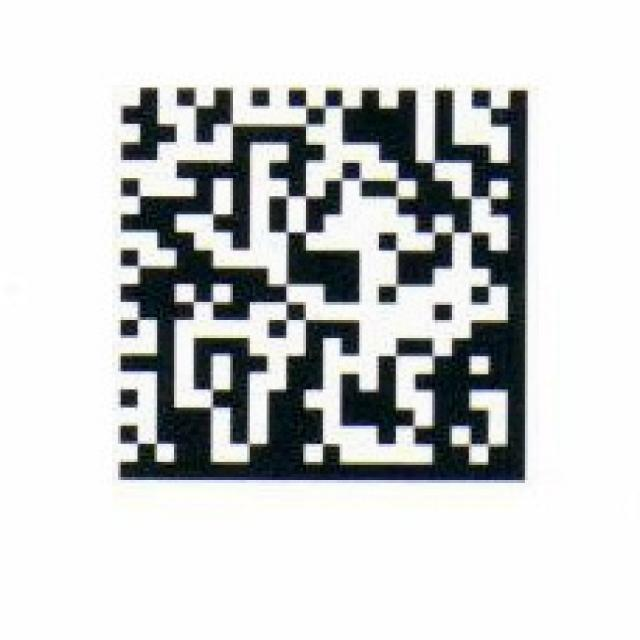Data-Matrix: (112, 85, 539, 486)
